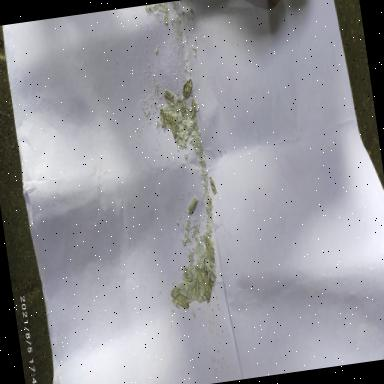pbw: (180, 77, 195, 99), (186, 196, 200, 216), (208, 176, 219, 198), (188, 98, 198, 121), (204, 282, 214, 304), (163, 88, 175, 104), (177, 296, 190, 310), (201, 273, 210, 293), (159, 108, 167, 130), (170, 286, 180, 300), (194, 278, 201, 298)
